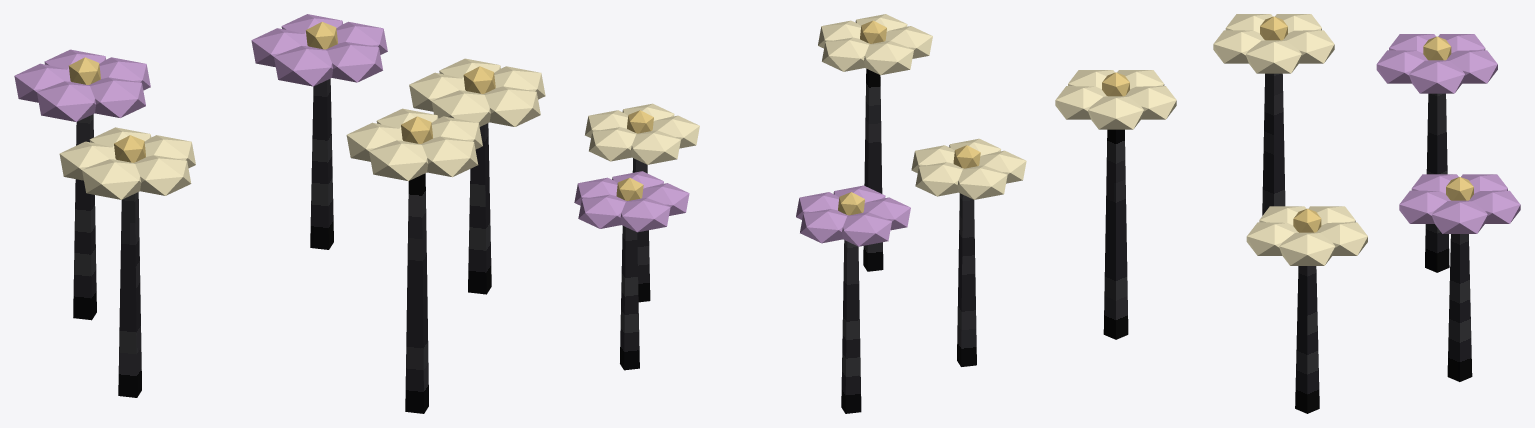
The model's file is enfeite_flores.glb.
The picture shows the model from 3 angles, left to right: view 1: azimuth 30°, elevation 25°; view 2: azimuth 150°, elevation 25°; view 3: azimuth 270°, elevation 25°; orthographic projection. The views are drawn at different scales.
Visible parts, largest first — view 1: vulcao_enfeite_flores; view 2: vulcao_enfeite_flores; view 3: vulcao_enfeite_flores.
Boxes of the visible parts, box(x1,y1,x2,y2) form: vulcao_enfeite_flores: box(14, 14, 545, 413); vulcao_enfeite_flores: box(574, 14, 1026, 413); vulcao_enfeite_flores: box(1055, 14, 1520, 413).
Size of the model in its own units: 0.366 by 0.211 by 0.339.
4 materials, 1 textured.
